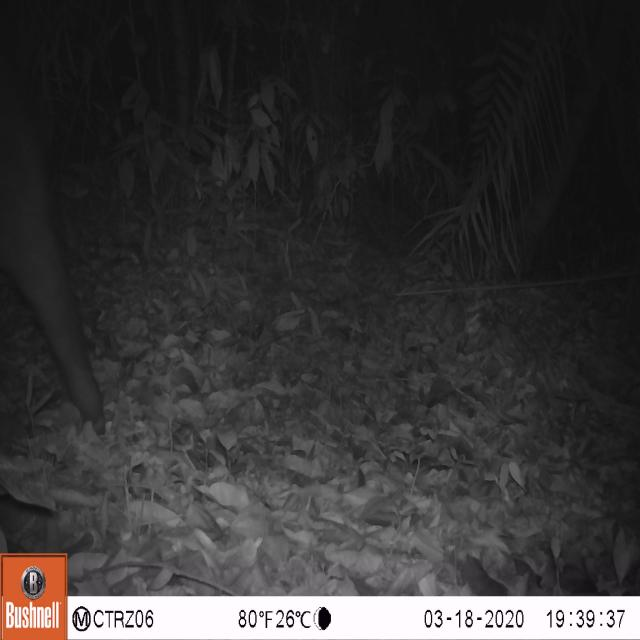Lowland Tapir: (0, 58, 113, 446)
